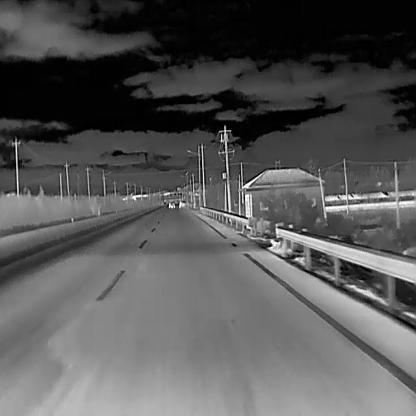car: (178, 199, 187, 211), (167, 199, 176, 210)
